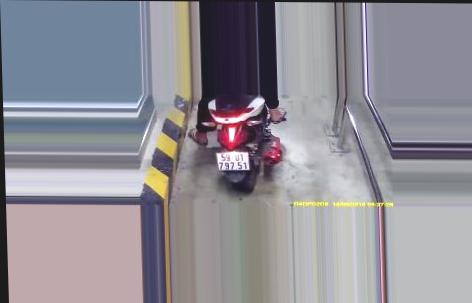License_Plate: (212, 148, 252, 178)
